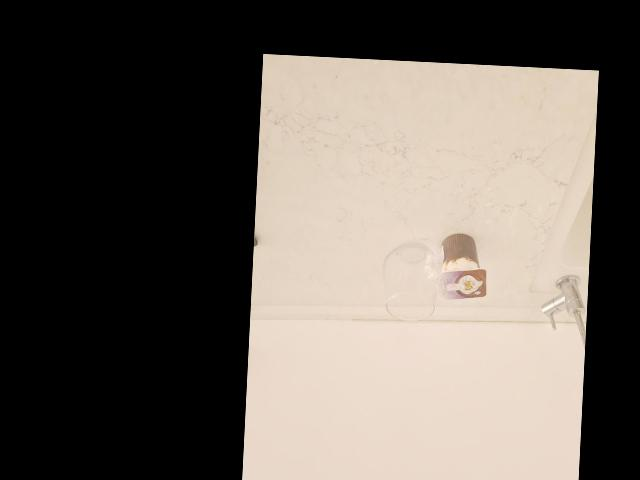milky: (434, 229, 492, 304)
